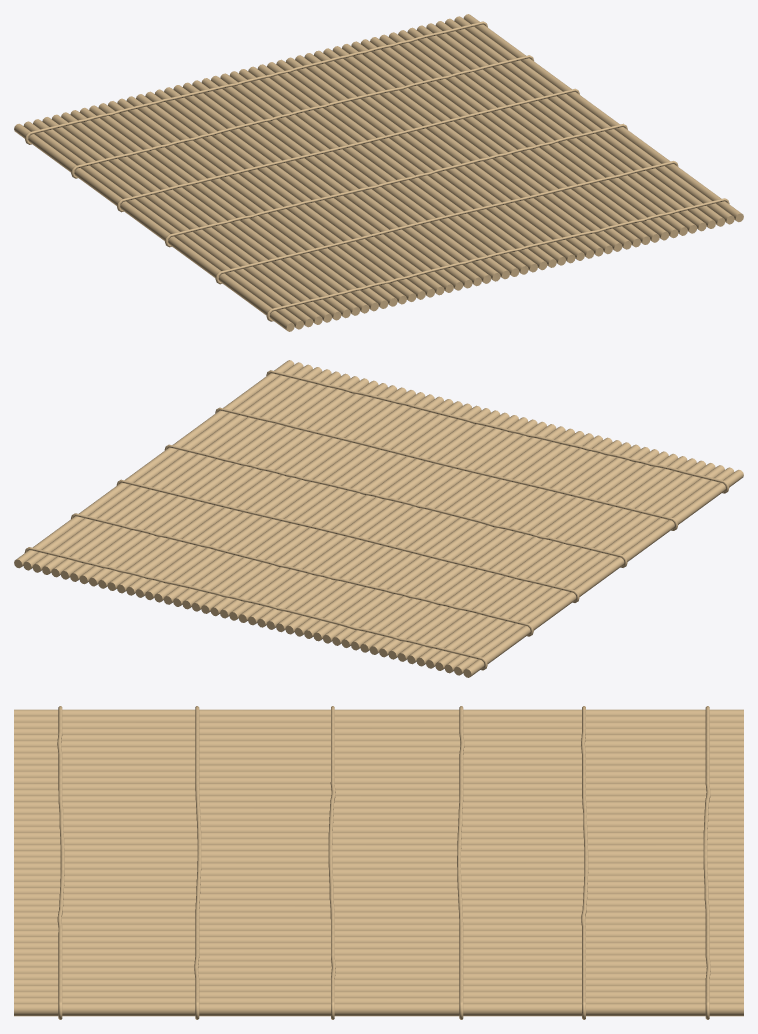
The model's file is BambooMat_Flat.fbx.
3 views of the same model, one above another, from view 1: azimuth 30°, elevation 25°; view 2: azimuth 150°, elevation 25°; view 3: azimuth 270°, elevation 25° (orthographic). The views are drawn at different scales.
Visible parts, largest first — view 1: BambooMat; view 2: BambooMat; view 3: BambooMat.
Boxes of the visible parts, bbox=[...] form: BambooMat: bbox=[14, 14, 743, 331]; BambooMat: bbox=[14, 360, 743, 677]; BambooMat: bbox=[14, 706, 743, 1019].
Bounding box in the file's own units: 22.23 × 0.5665 × 22.67.
